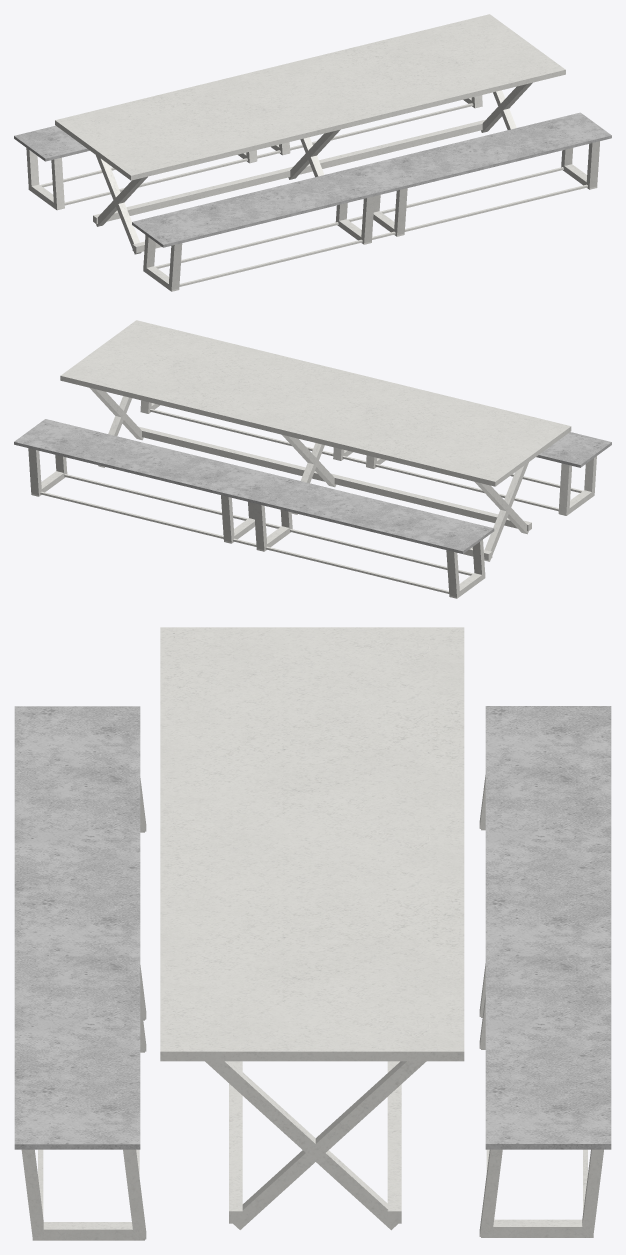
3 renders of one model, top to bottom at view 1: azimuth 30°, elevation 25°; view 2: azimuth 150°, elevation 25°; view 3: azimuth 270°, elevation 25°, orthographic. The views are drawn at different scales.
Parts seen in each view (by area): view 1: LongCafeTable__9_; view 2: LongCafeTable__9_; view 3: LongCafeTable__9_.
Part boxes in pixels (<box>): LongCafeTable__9_: <box>14,14,611,291</box>; LongCafeTable__9_: <box>14,320,611,598</box>; LongCafeTable__9_: <box>14,627,611,1240</box>.
Size of the model in its own units: 3.32 by 0.7 by 1.91.
Materials: 3 (3 with a texture image).
